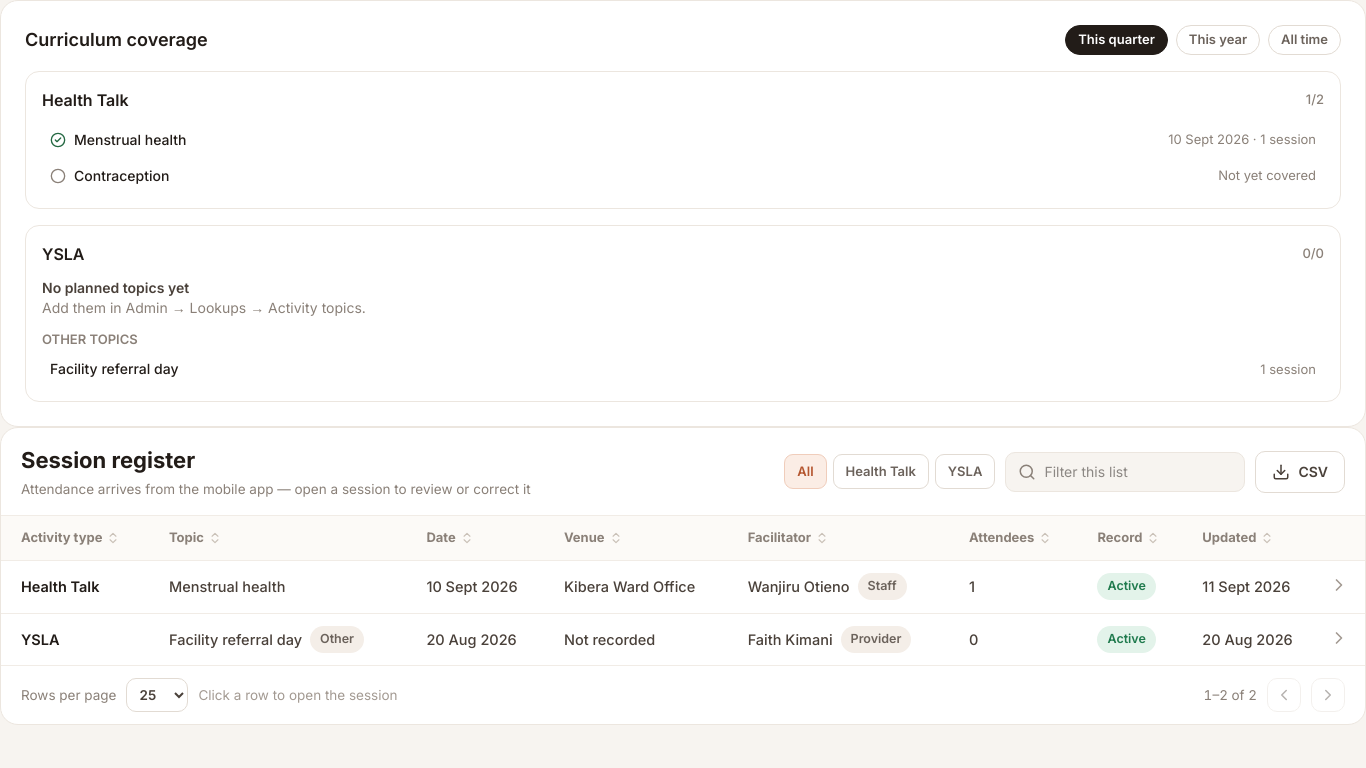
Test: session drawer › shows the header and overview at once and loads attendance and files
The image size is (1366, 768).
Click the button named "Open Menstrual health".
click(1339, 585)  # box [1327,573,1351,597]
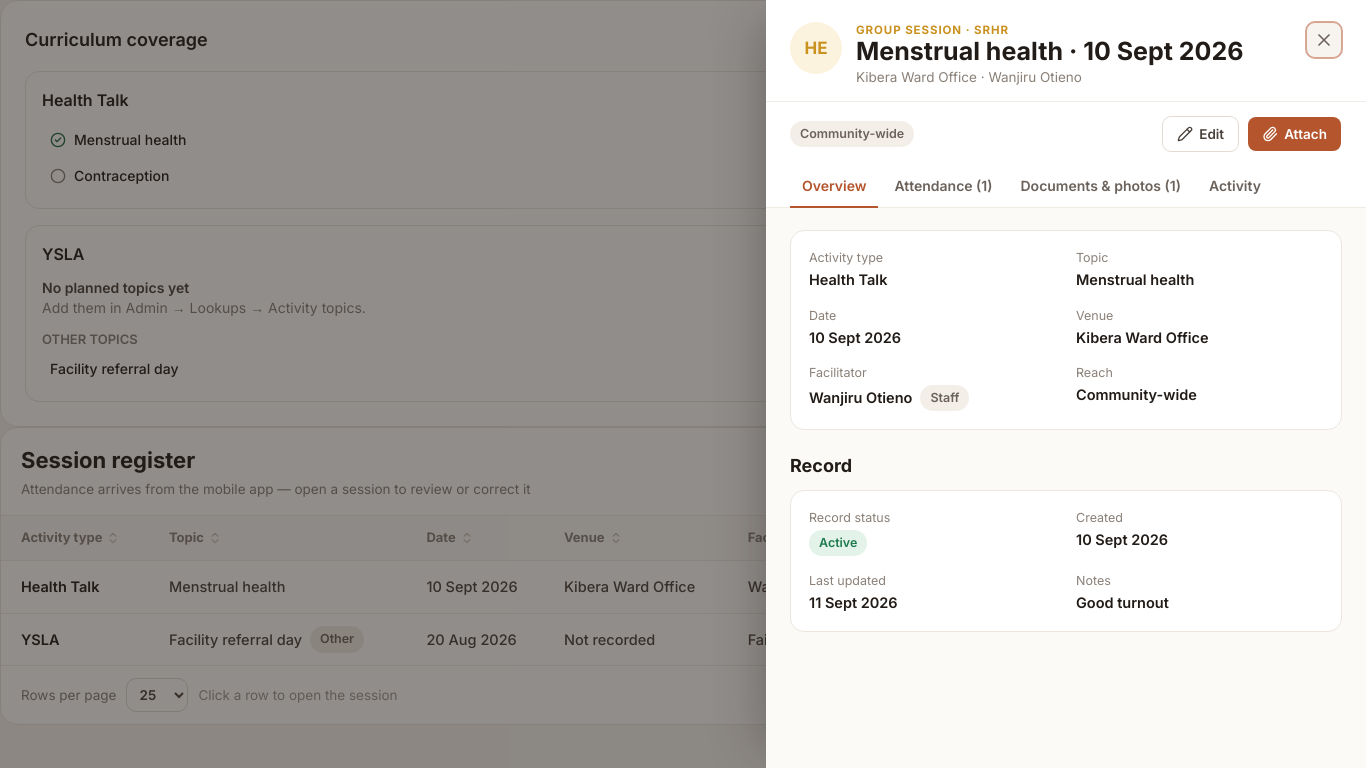
Result: the dialog shows "Group session · SRHR" at [856,23,1009,37]
Result: the dialog shows "Kibera Ward Office · Wanjiru Otieno" at [856,69,1082,85]
Result: the dialog shows "Good turnout" at [1076,594,1169,610]
